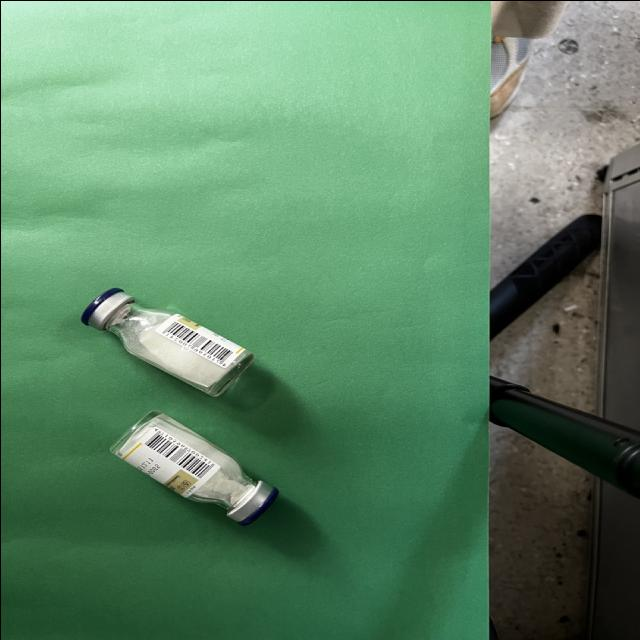Vials: (111, 411, 277, 524), (81, 288, 253, 395)
